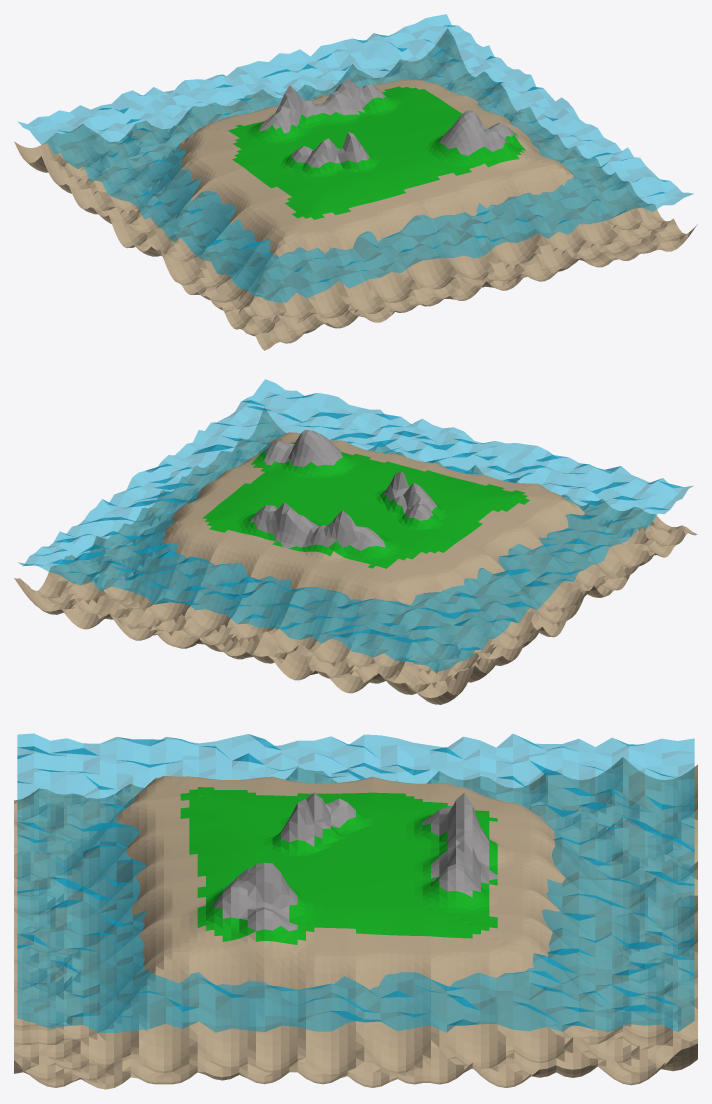
File: Terrain.fbx
3 renders of one model, top to bottom at view 1: azimuth 30°, elevation 25°; view 2: azimuth 150°, elevation 25°; view 3: azimuth 270°, elevation 25°, orthographic. The views are drawn at different scales.
Visible parts, largest first — view 1: Terrain; view 2: Terrain; view 3: Terrain.
Part boxes in pixels (x1,y1,x2,y2): Terrain: (14, 14, 697, 350); Terrain: (14, 379, 697, 704); Terrain: (14, 733, 697, 1089).
Size of the model in its own units: 40 by 8.76 by 40.
